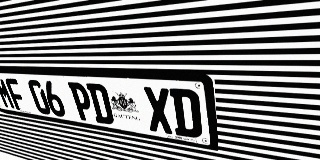0: (26, 80, 52, 115)
6: (41, 80, 67, 118)
D: (169, 88, 203, 139), (86, 83, 115, 125)
F: (4, 78, 28, 112)
M: (0, 78, 16, 110)
P: (67, 82, 96, 122)
X: (142, 87, 174, 135)
